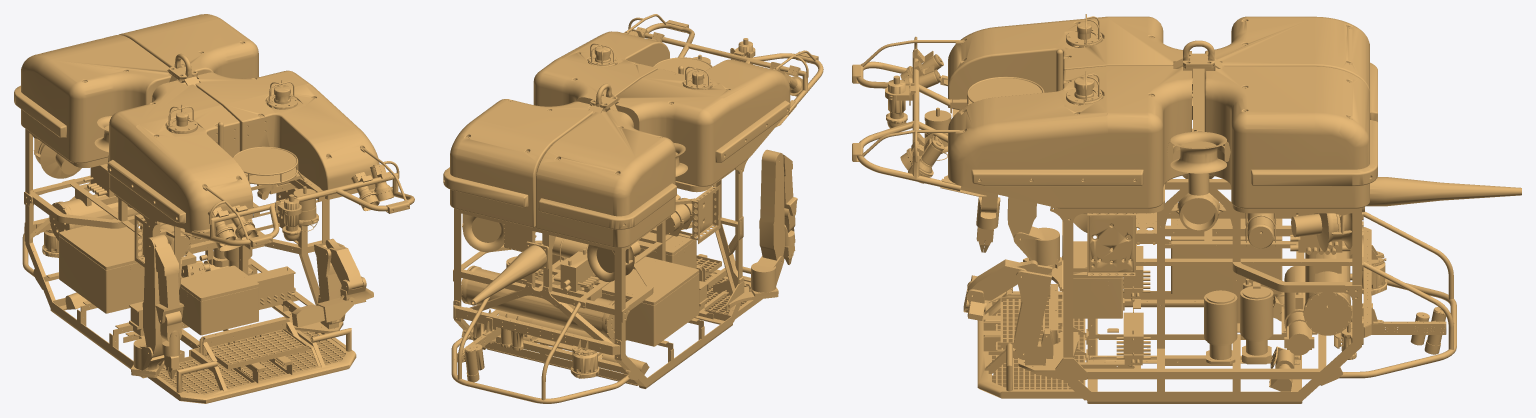
File: hercules.glb
3 renders of one model, left to right at view 1: azimuth 30°, elevation 25°; view 2: azimuth 150°, elevation 25°; view 3: azimuth 270°, elevation 25°, orthographic. The views are drawn at different scales.
Parts seen in each view (by area): view 1: Object_2; view 2: Object_2; view 3: Object_2.
Part boxes in pixels (left/top/right/bottom): Object_2: left=14, top=14, right=414, bottom=403; Object_2: left=443, top=14, right=823, bottom=403; Object_2: left=852, top=14, right=1521, bottom=403.
Bounding box in the file's own units: 1.88 × 2.2 × 4.27.
